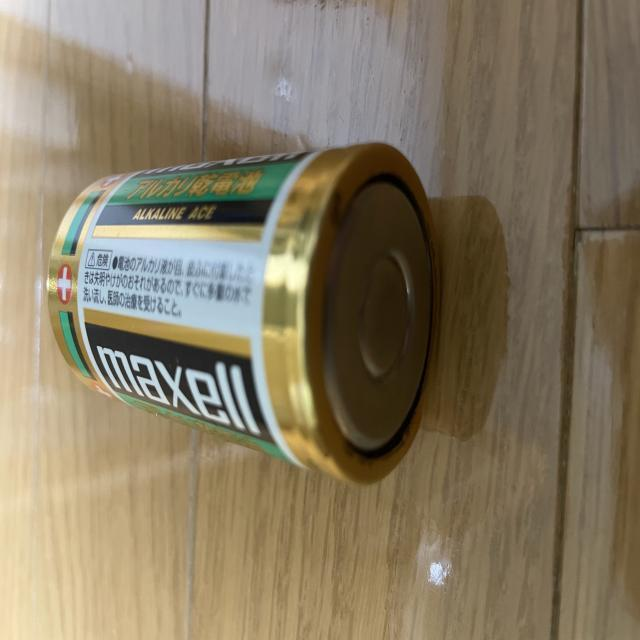Hazard: (44, 142, 447, 491)
